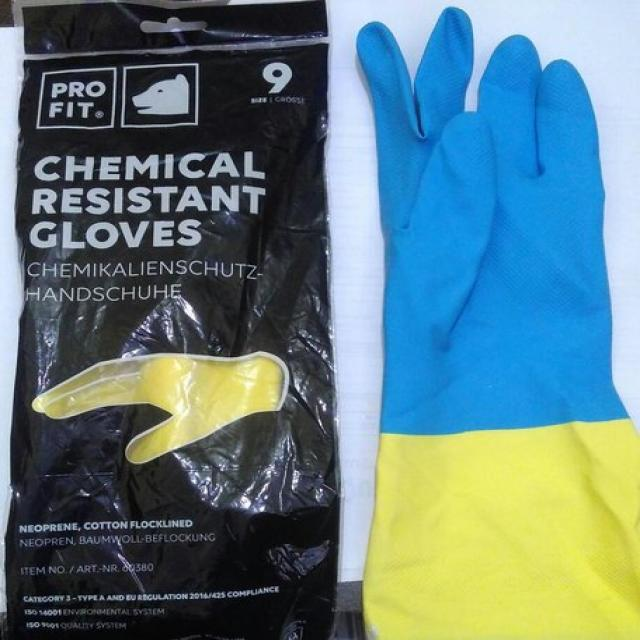gloves: (355, 4, 640, 640)
